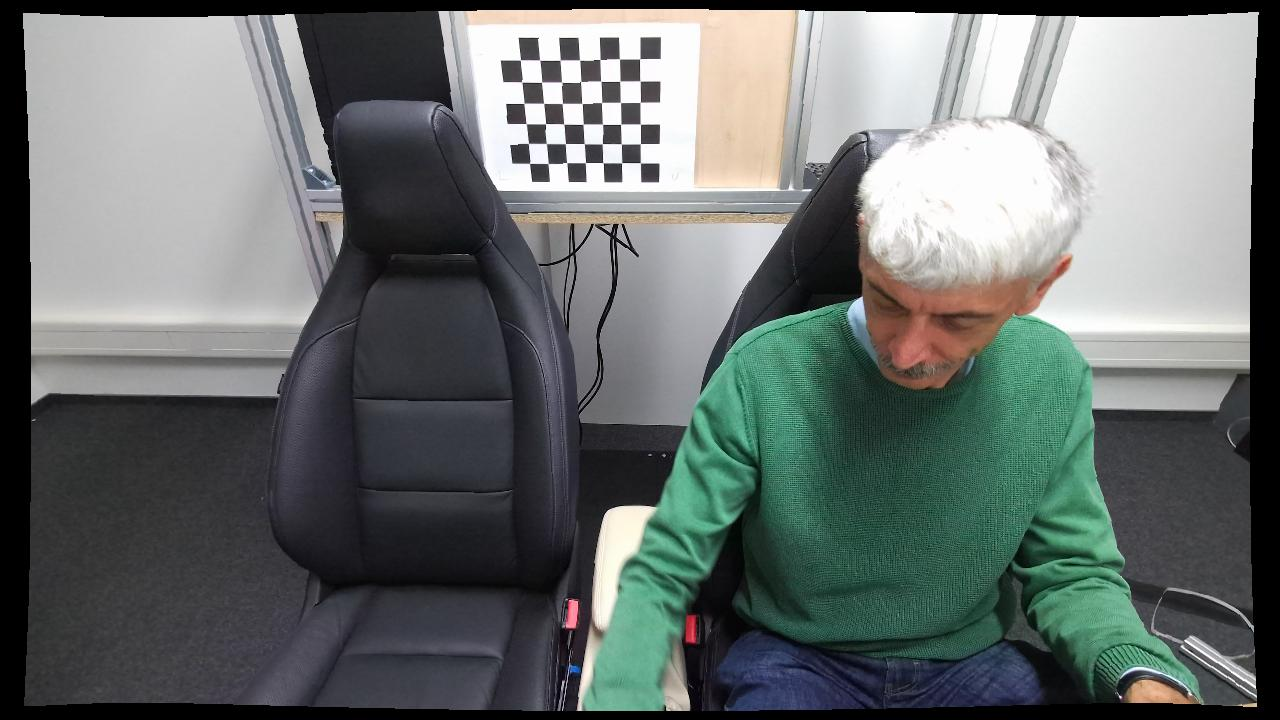Distracted: (577, 115, 1199, 711)
